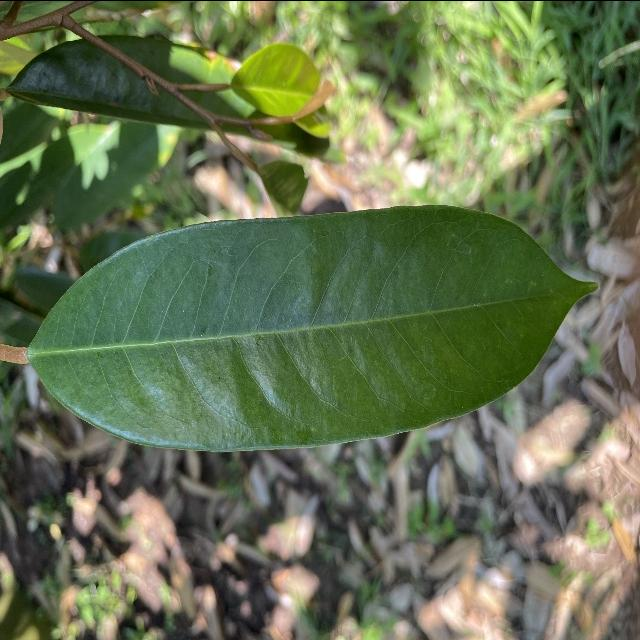No Disease: (17, 195, 603, 458)
